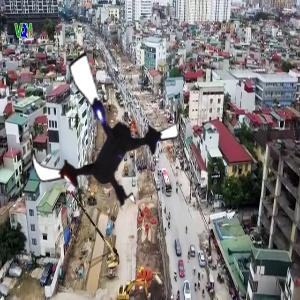drone: (21, 52, 187, 218)
